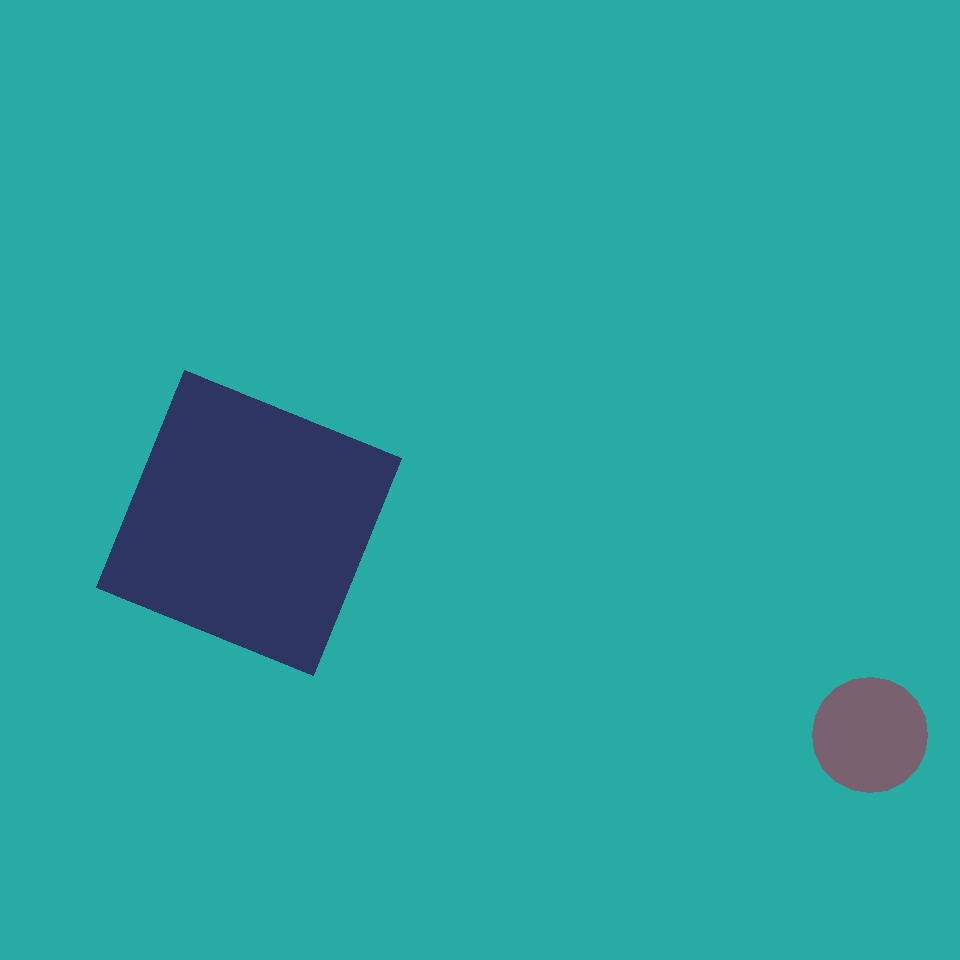square: (97, 371, 402, 676)
triangle: (812, 678, 928, 792)
